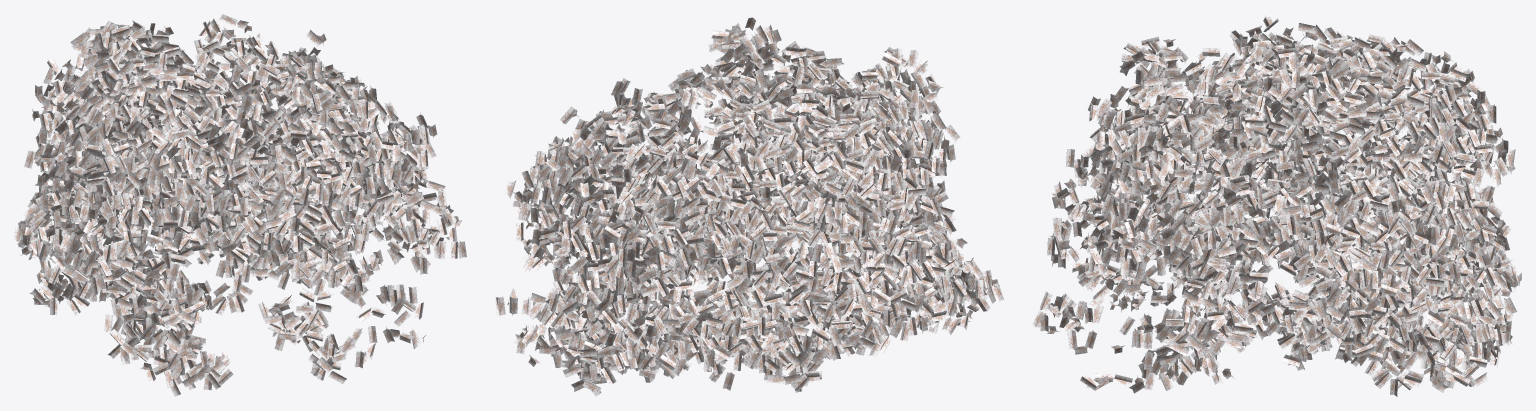
Rendered from cherryblossom_2_leaf.fbx.
The picture shows the model from 3 angles, left to right: view 1: azimuth 30°, elevation 25°; view 2: azimuth 150°, elevation 25°; view 3: azimuth 270°, elevation 25°; orthographic projection. The views are drawn at different scales.
Visible parts, largest first — view 1: MASH1_ReproMesh2; view 2: MASH1_ReproMesh2; view 3: MASH1_ReproMesh2.
Part boxes in pixels (box(x1,y1,x2,y2)): MASH1_ReproMesh2: box(14, 14, 466, 396); MASH1_ReproMesh2: box(495, 17, 1003, 396); MASH1_ReproMesh2: box(1032, 15, 1521, 396).
Bounding box in the file's own units: 6064 × 3984 × 6087.
Materials: 1 (1 with a texture image).
